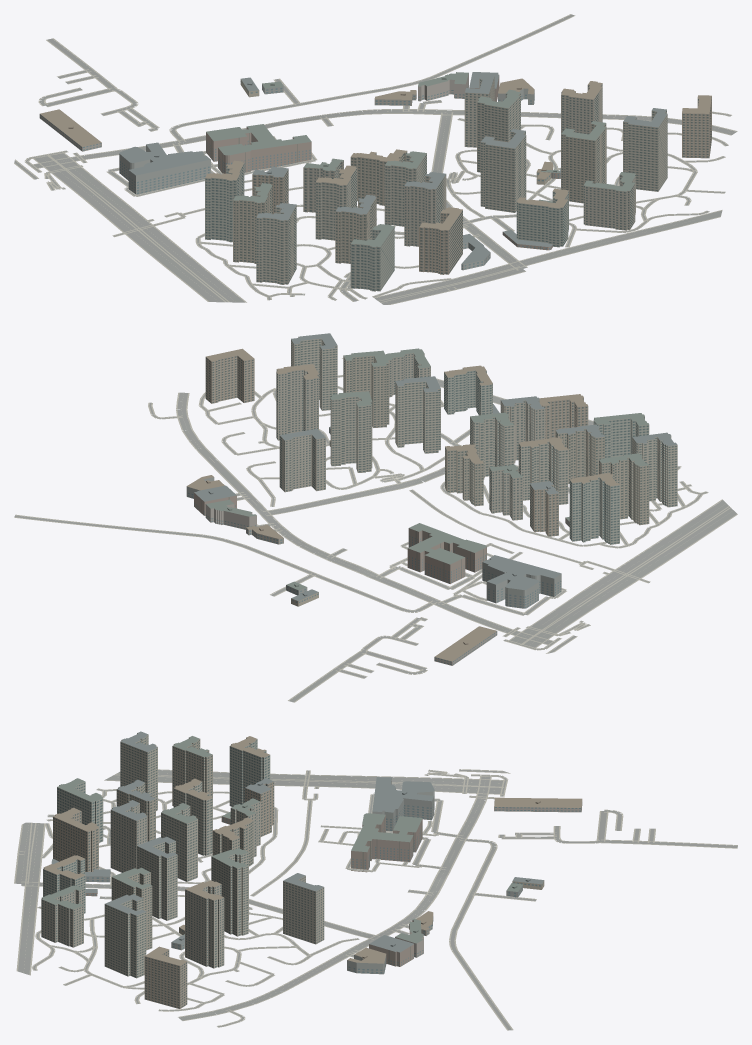
3 views of the same model, one above another, from view 1: azimuth 30°, elevation 25°; view 2: azimuth 150°, elevation 25°; view 3: azimuth 270°, elevation 25° (orthographic). The views are drawn at different scales.
Parts seen in each view (by area): view 1: context-osm-buildings, context-osm-roads, context-osm-sidewalks; view 2: context-osm-buildings, context-osm-roads, context-osm-sidewalks; view 3: context-osm-buildings, context-osm-roads, context-osm-sidewalks.
Part boxes in pixels (x1,y1,x2,y2): context-osm-buildings: (39,72,711,291); context-osm-roads: (14,14,736,304); context-osm-sidewalks: (14,14,737,304); context-osm-buildings: (186,333,677,665); context-osm-roads: (14,375,736,702); context-osm-sidewalks: (14,358,737,702); context-osm-buildings: (41,731,582,1008); context-osm-roads: (15,769,737,1030); context-osm-sidewalks: (14,769,737,1030).
Bounding box in the file's own units: 663 × 92.16 × 743.
Materials: 19 (5 with a texture image).
